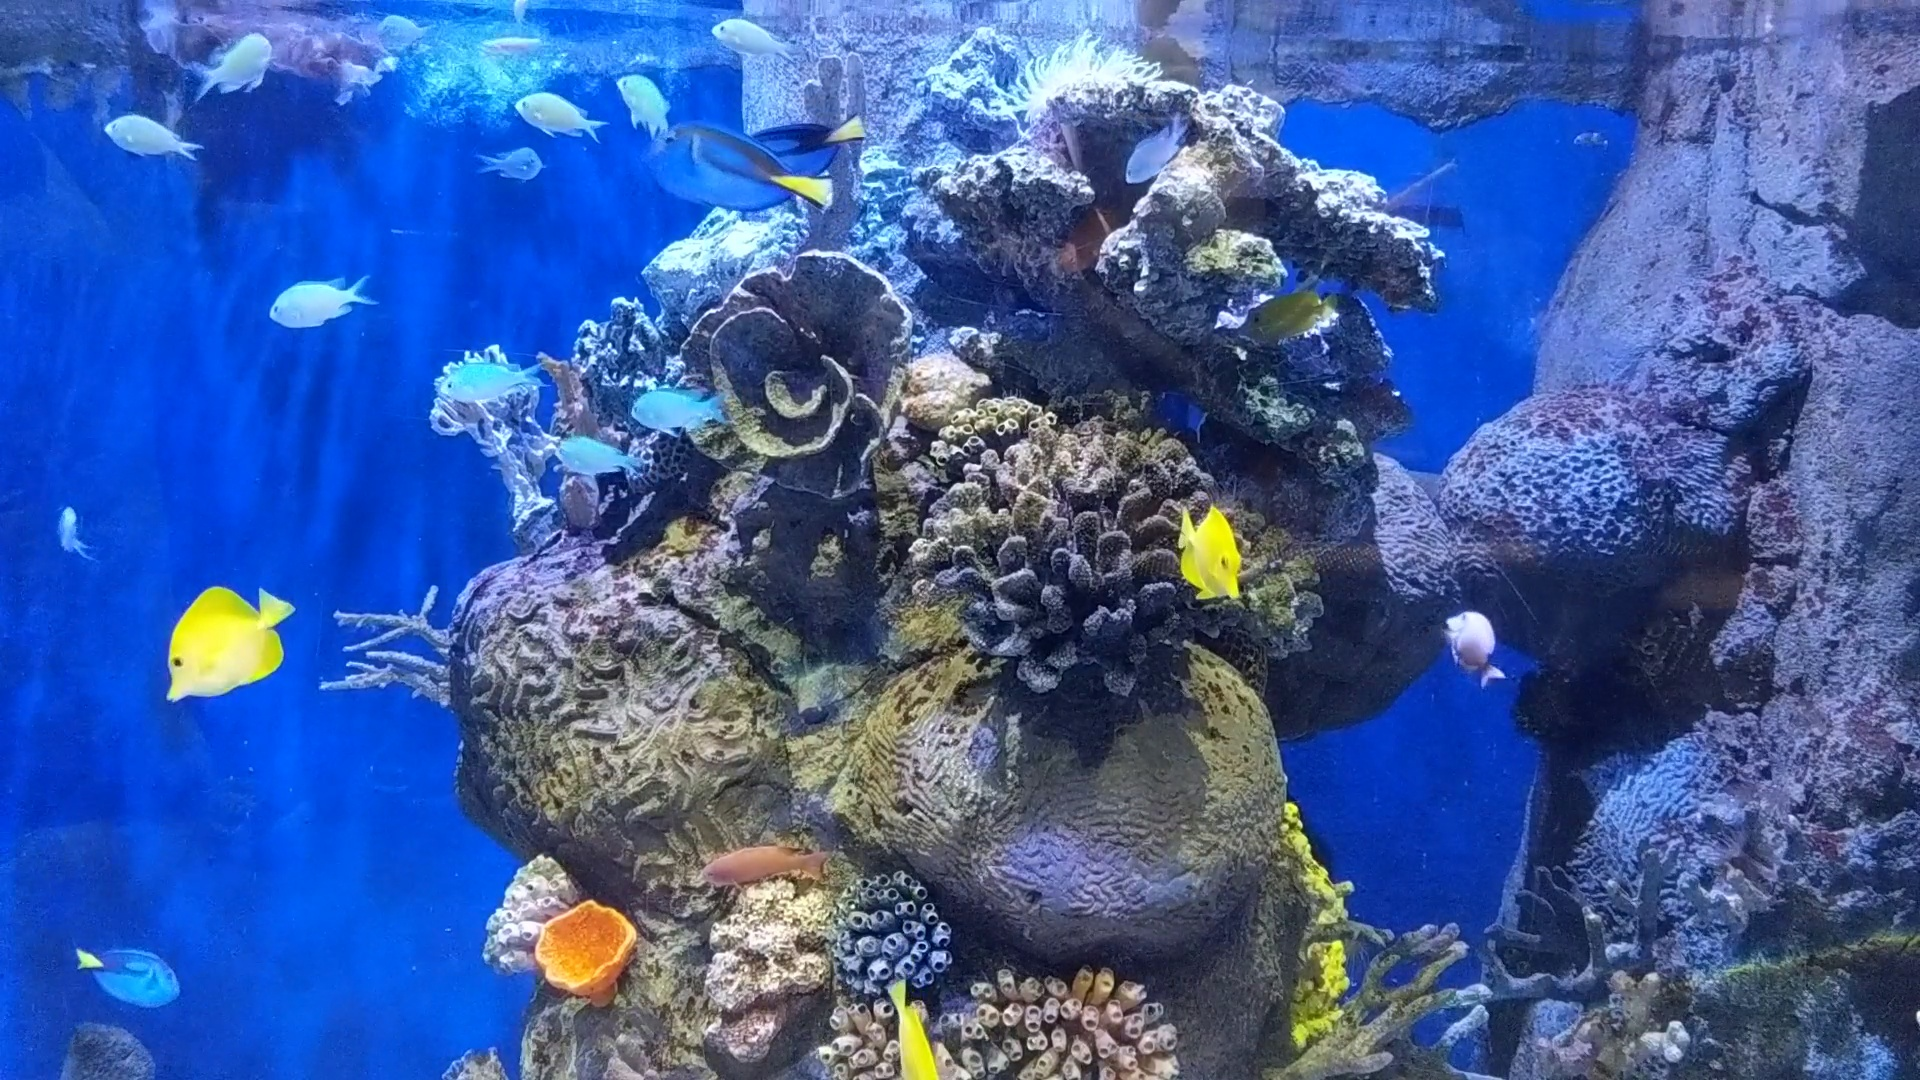blue tang surgeonfish: (642, 123, 837, 225), (57, 916, 194, 1019)
damselfish: (492, 76, 616, 146), (620, 376, 733, 446), (600, 53, 674, 141), (256, 274, 364, 332), (418, 349, 541, 400), (190, 36, 282, 102), (553, 426, 638, 491), (709, 15, 796, 71), (1125, 102, 1185, 175), (102, 121, 202, 161), (458, 141, 549, 183)
pink fish: (1432, 603, 1520, 698)
saddle butterfly fish: (138, 574, 309, 716), (1160, 504, 1255, 597)
